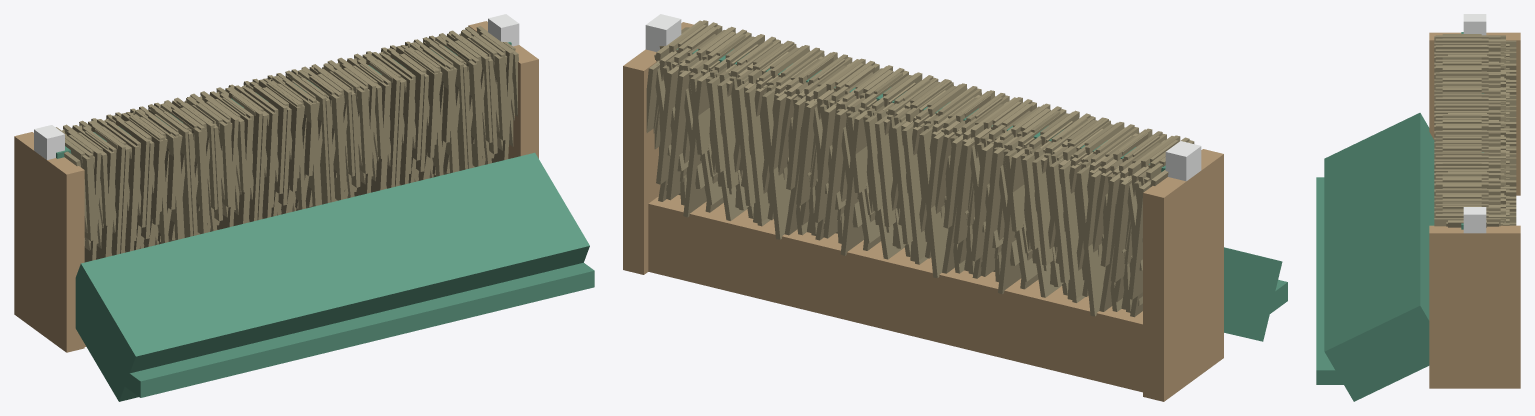
Rendered from racecourse-and-parade-ring-steeplechase-fence-6f38a03a__38599.glb.
3 views of the same model, side by side, from view 1: azimuth 30°, elevation 25°; view 2: azimuth 150°, elevation 25°; view 3: azimuth 270°, elevation 25° (orthographic). The views are drawn at different scales.
Visible parts, largest first — view 1: steeplechase-fence; view 2: steeplechase-fence; view 3: steeplechase-fence.
Part boxes in pixels (x1=…): steeplechase-fence: x1=14, y1=14, x2=594, y2=401; steeplechase-fence: x1=623, y1=14, x2=1287, y2=401; steeplechase-fence: x1=1316, y1=14, x2=1520, y2=401.
Bounding box in the file's own units: 4.16 × 1.85 × 1.79.
